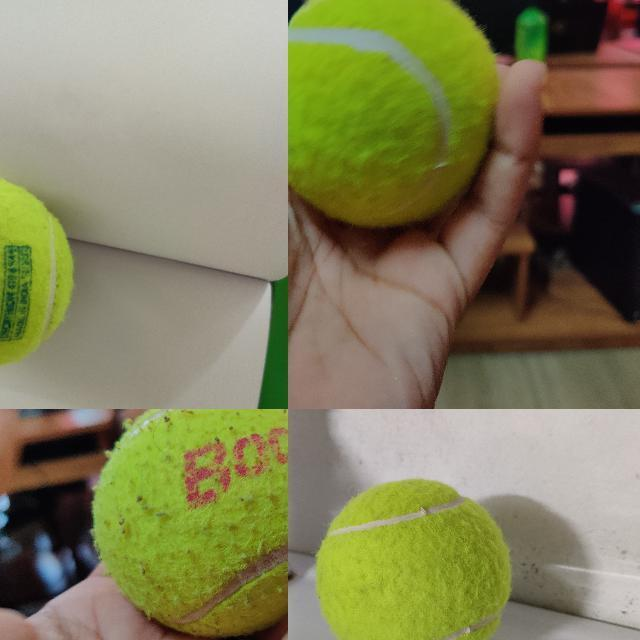tennis-ball: (288, 0, 499, 228), (92, 409, 287, 637), (312, 475, 515, 639), (0, 175, 76, 371)
